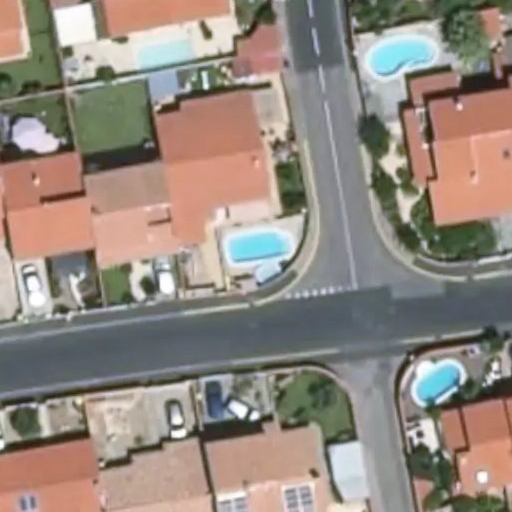pool: (222, 234, 289, 247)
